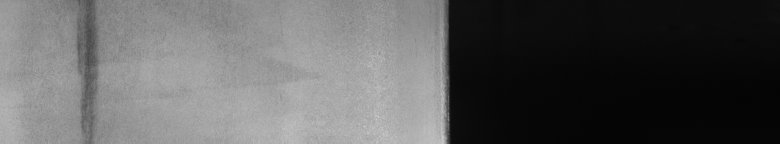hd: (72, 4, 104, 136)
